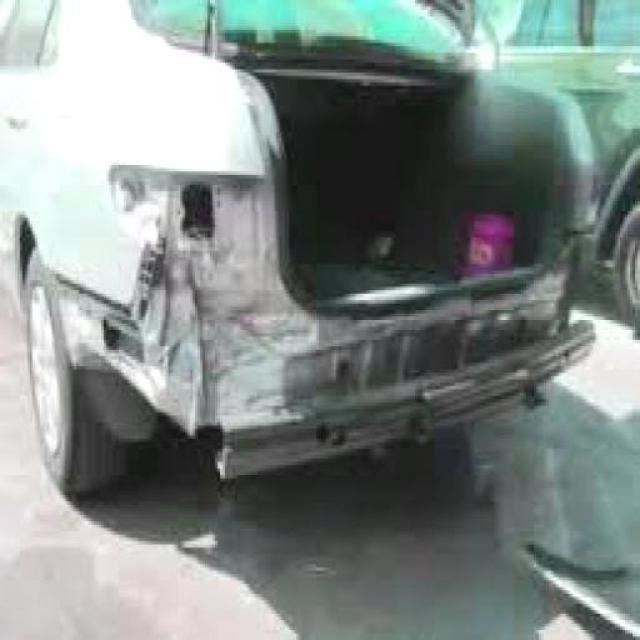car damage: (53, 107, 594, 459)
